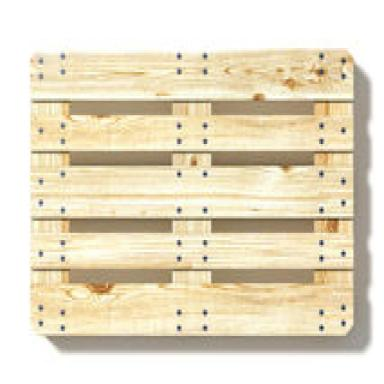pallet: (30, 49, 354, 336)
